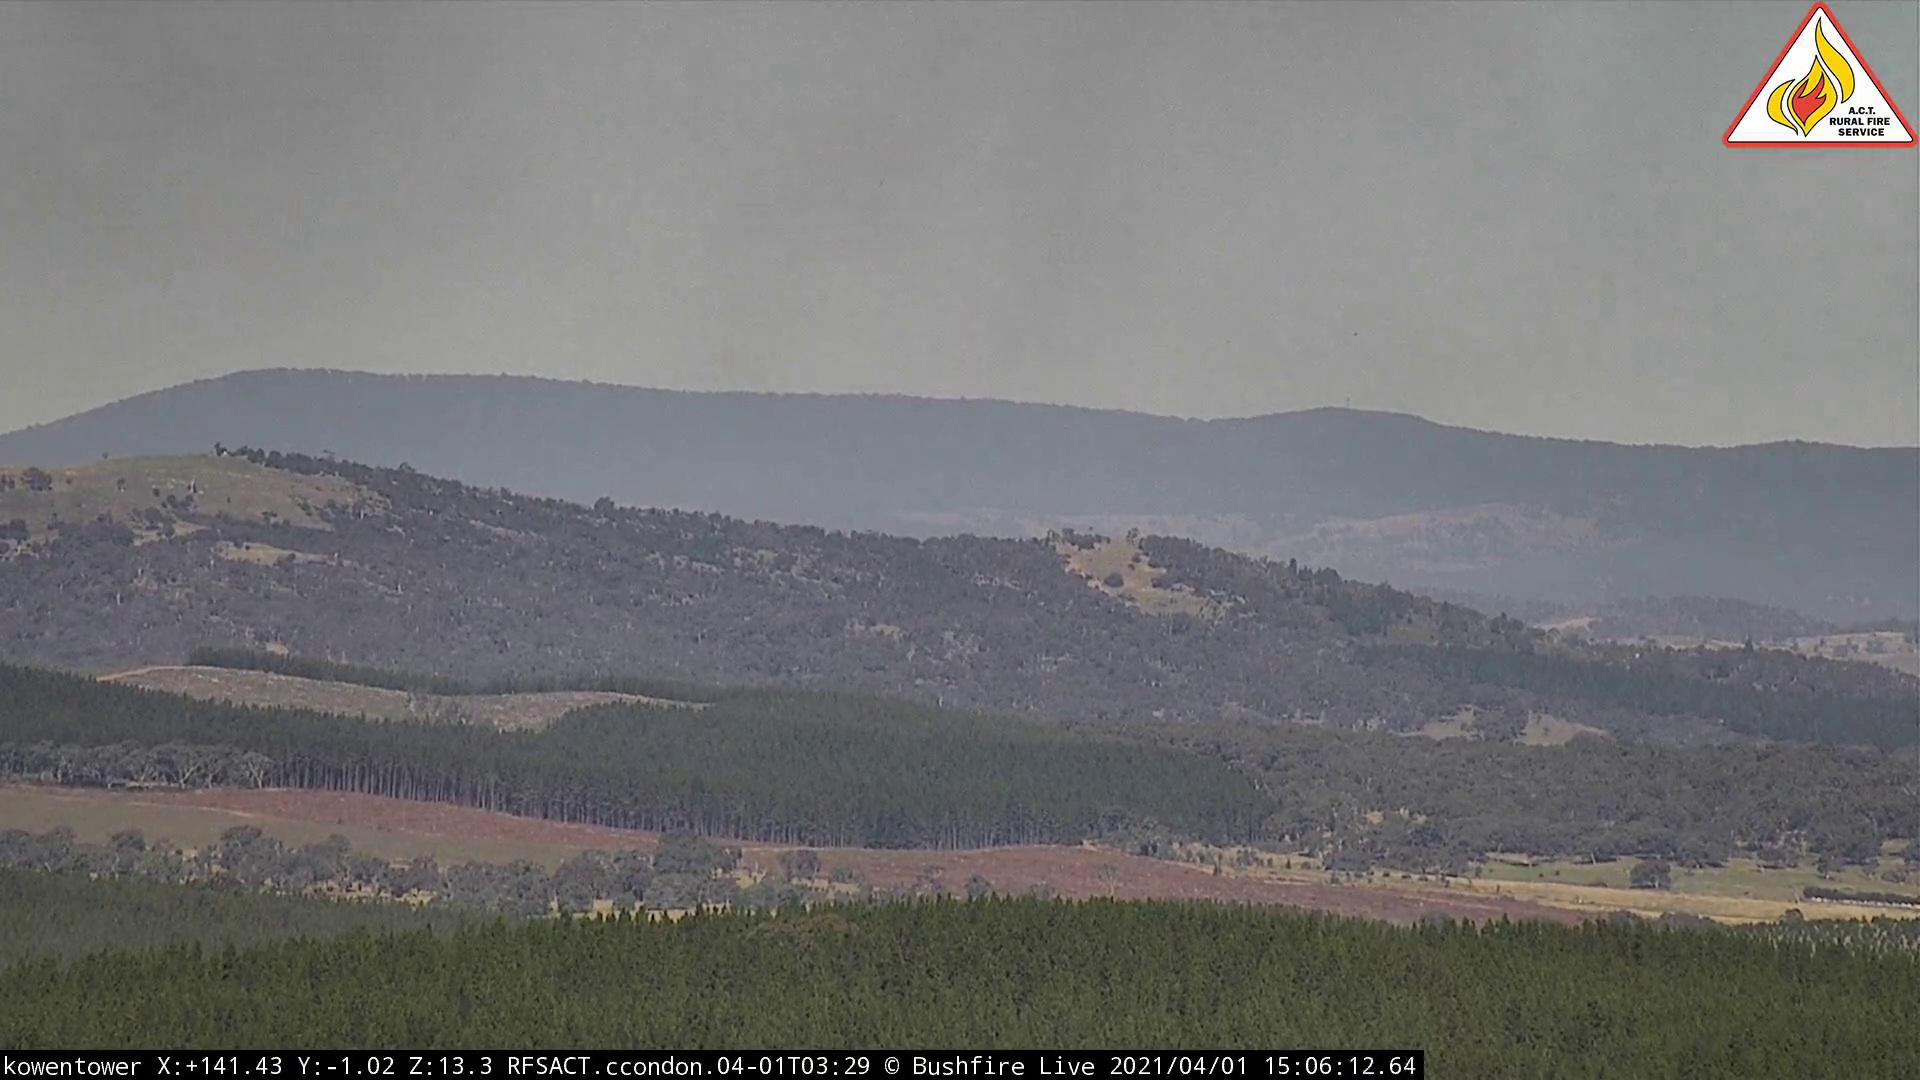Smoke: (3, 3, 1669, 527)
